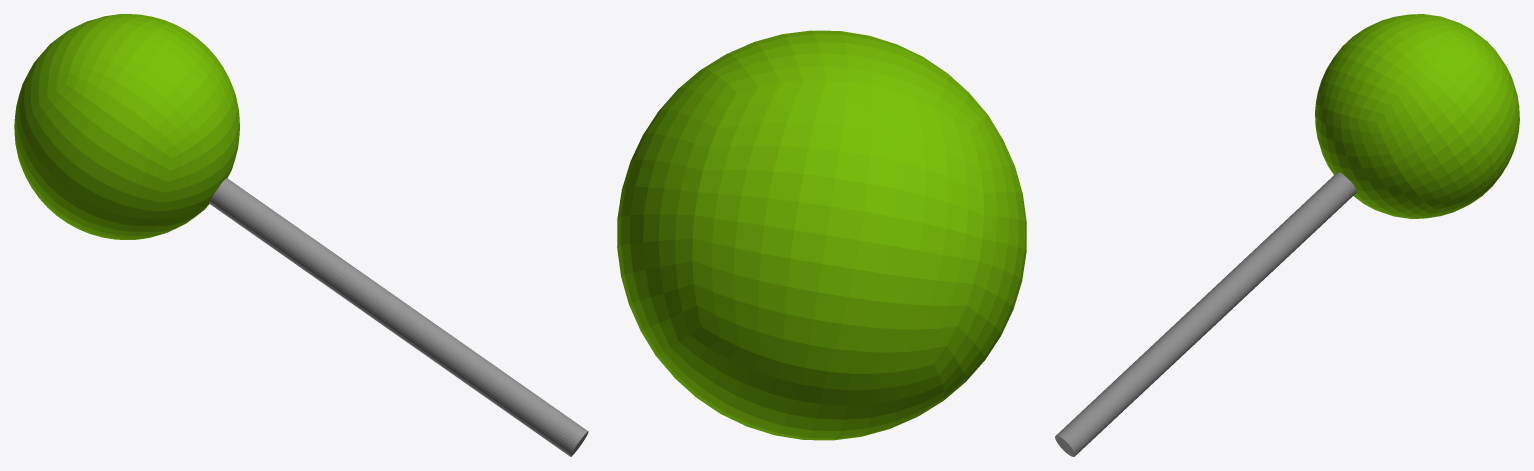
Rendered from stecknadel Türkei.glb.
The picture shows the model from 3 angles, left to right: view 1: azimuth 30°, elevation 25°; view 2: azimuth 150°, elevation 25°; view 3: azimuth 270°, elevation 25°; orthographic projection. The views are drawn at different scales.
Parts seen in each view (by area): view 1: Zylinder; view 2: Zylinder; view 3: Zylinder.
Part boxes in pixels (x1,y1,x2,y2): Zylinder: (14,14,588,456); Zylinder: (617,30,1026,440); Zylinder: (1055,14,1519,456).
Bounding box in the file's own units: 0.1703 × 0.1563 × 0.2061.
